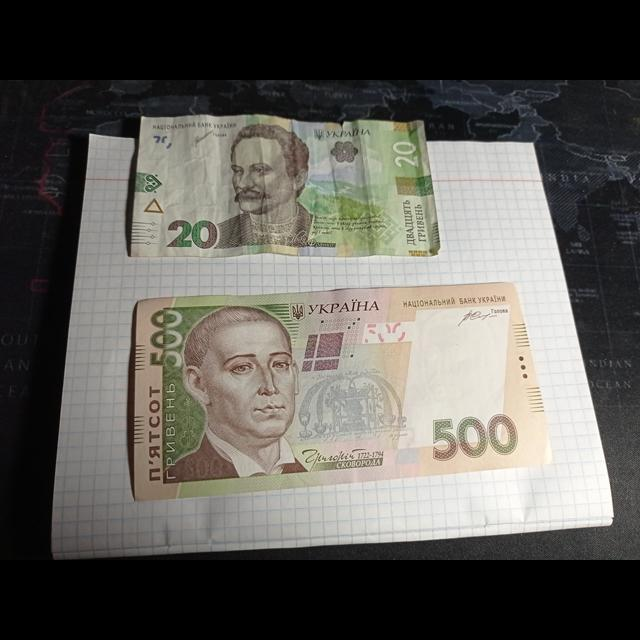20uah: (129, 116, 439, 257)
500uah: (133, 281, 551, 501)
